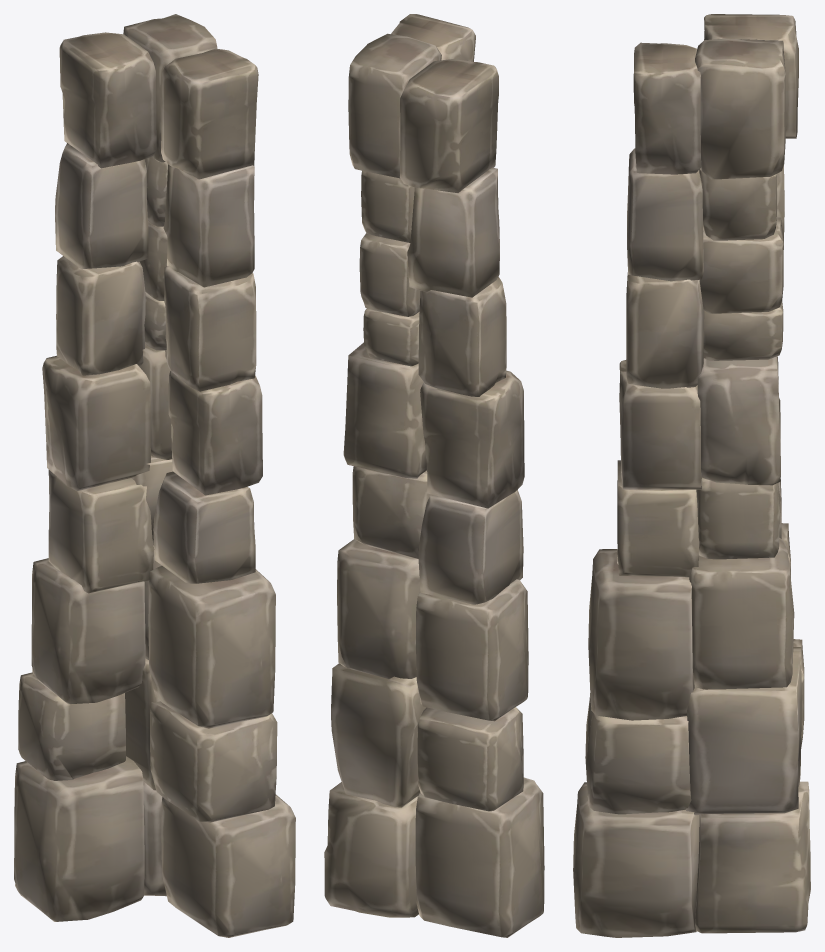
The model's file is Corner_ExteriorWide_Brick.gltf.
3 views of the same model, side by side, from view 1: azimuth 30°, elevation 25°; view 2: azimuth 150°, elevation 25°; view 3: azimuth 270°, elevation 25° (orthographic). The views are drawn at different scales.
Parts seen in each view (by area): view 1: Corner_ExteriorWide_Brick; view 2: Corner_ExteriorWide_Brick; view 3: Corner_ExteriorWide_Brick.
Boxes of the visible parts, x1,y1,x2,y2 form: Corner_ExteriorWide_Brick: (14,14,295,937); Corner_ExteriorWide_Brick: (324,14,544,937); Corner_ExteriorWide_Brick: (573,14,810,937).
Size of the model in its own units: 0.7123 by 3.04 by 0.7564.
Materials: 1 (1 with a texture image).
